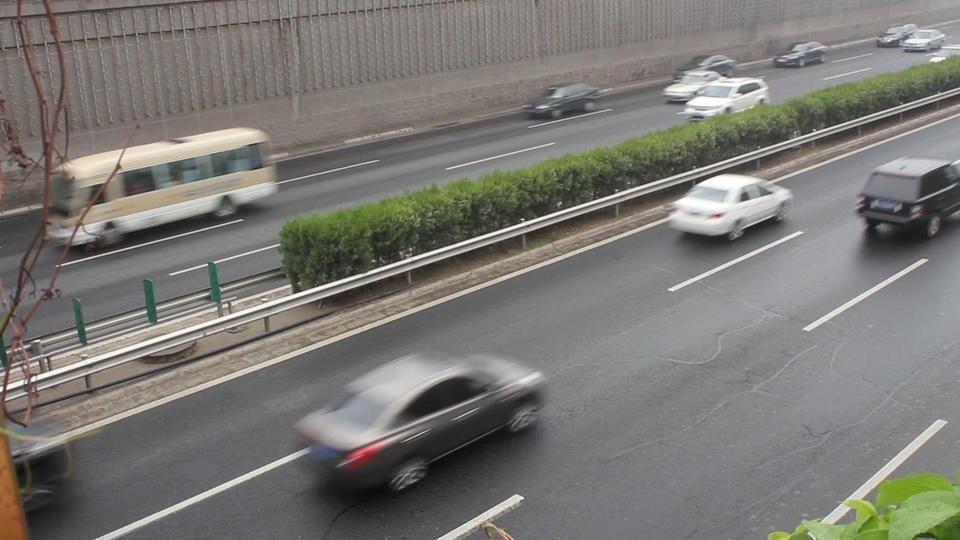car: (290, 349, 550, 495), (666, 172, 795, 241), (683, 77, 772, 120), (663, 54, 737, 101), (527, 82, 603, 122), (774, 40, 828, 68), (902, 28, 945, 53), (876, 22, 918, 47)
